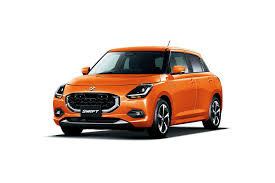Swift: (52, 41, 226, 137)
